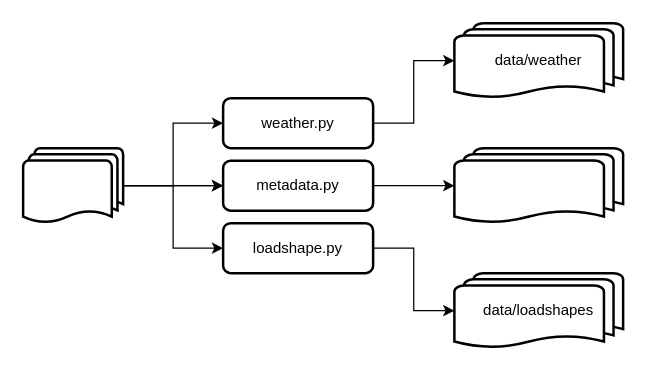
This 645x370 diagram has some shape labels left out. The shapes that lost their labels are listed below. From the top down, each one's centre as x and y in pixels, then its label:
At (72,185): "OEDI Data Lake".
At (538,185): "data/metadata".
